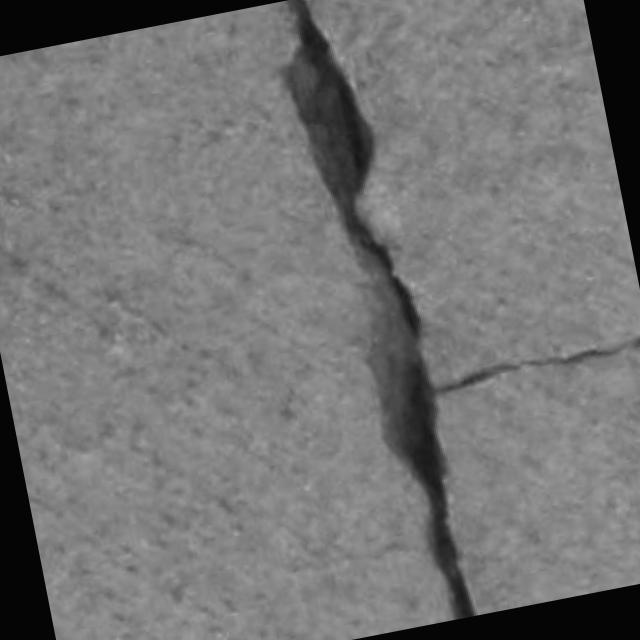crack: (284, 0, 475, 619), (434, 334, 639, 394)
